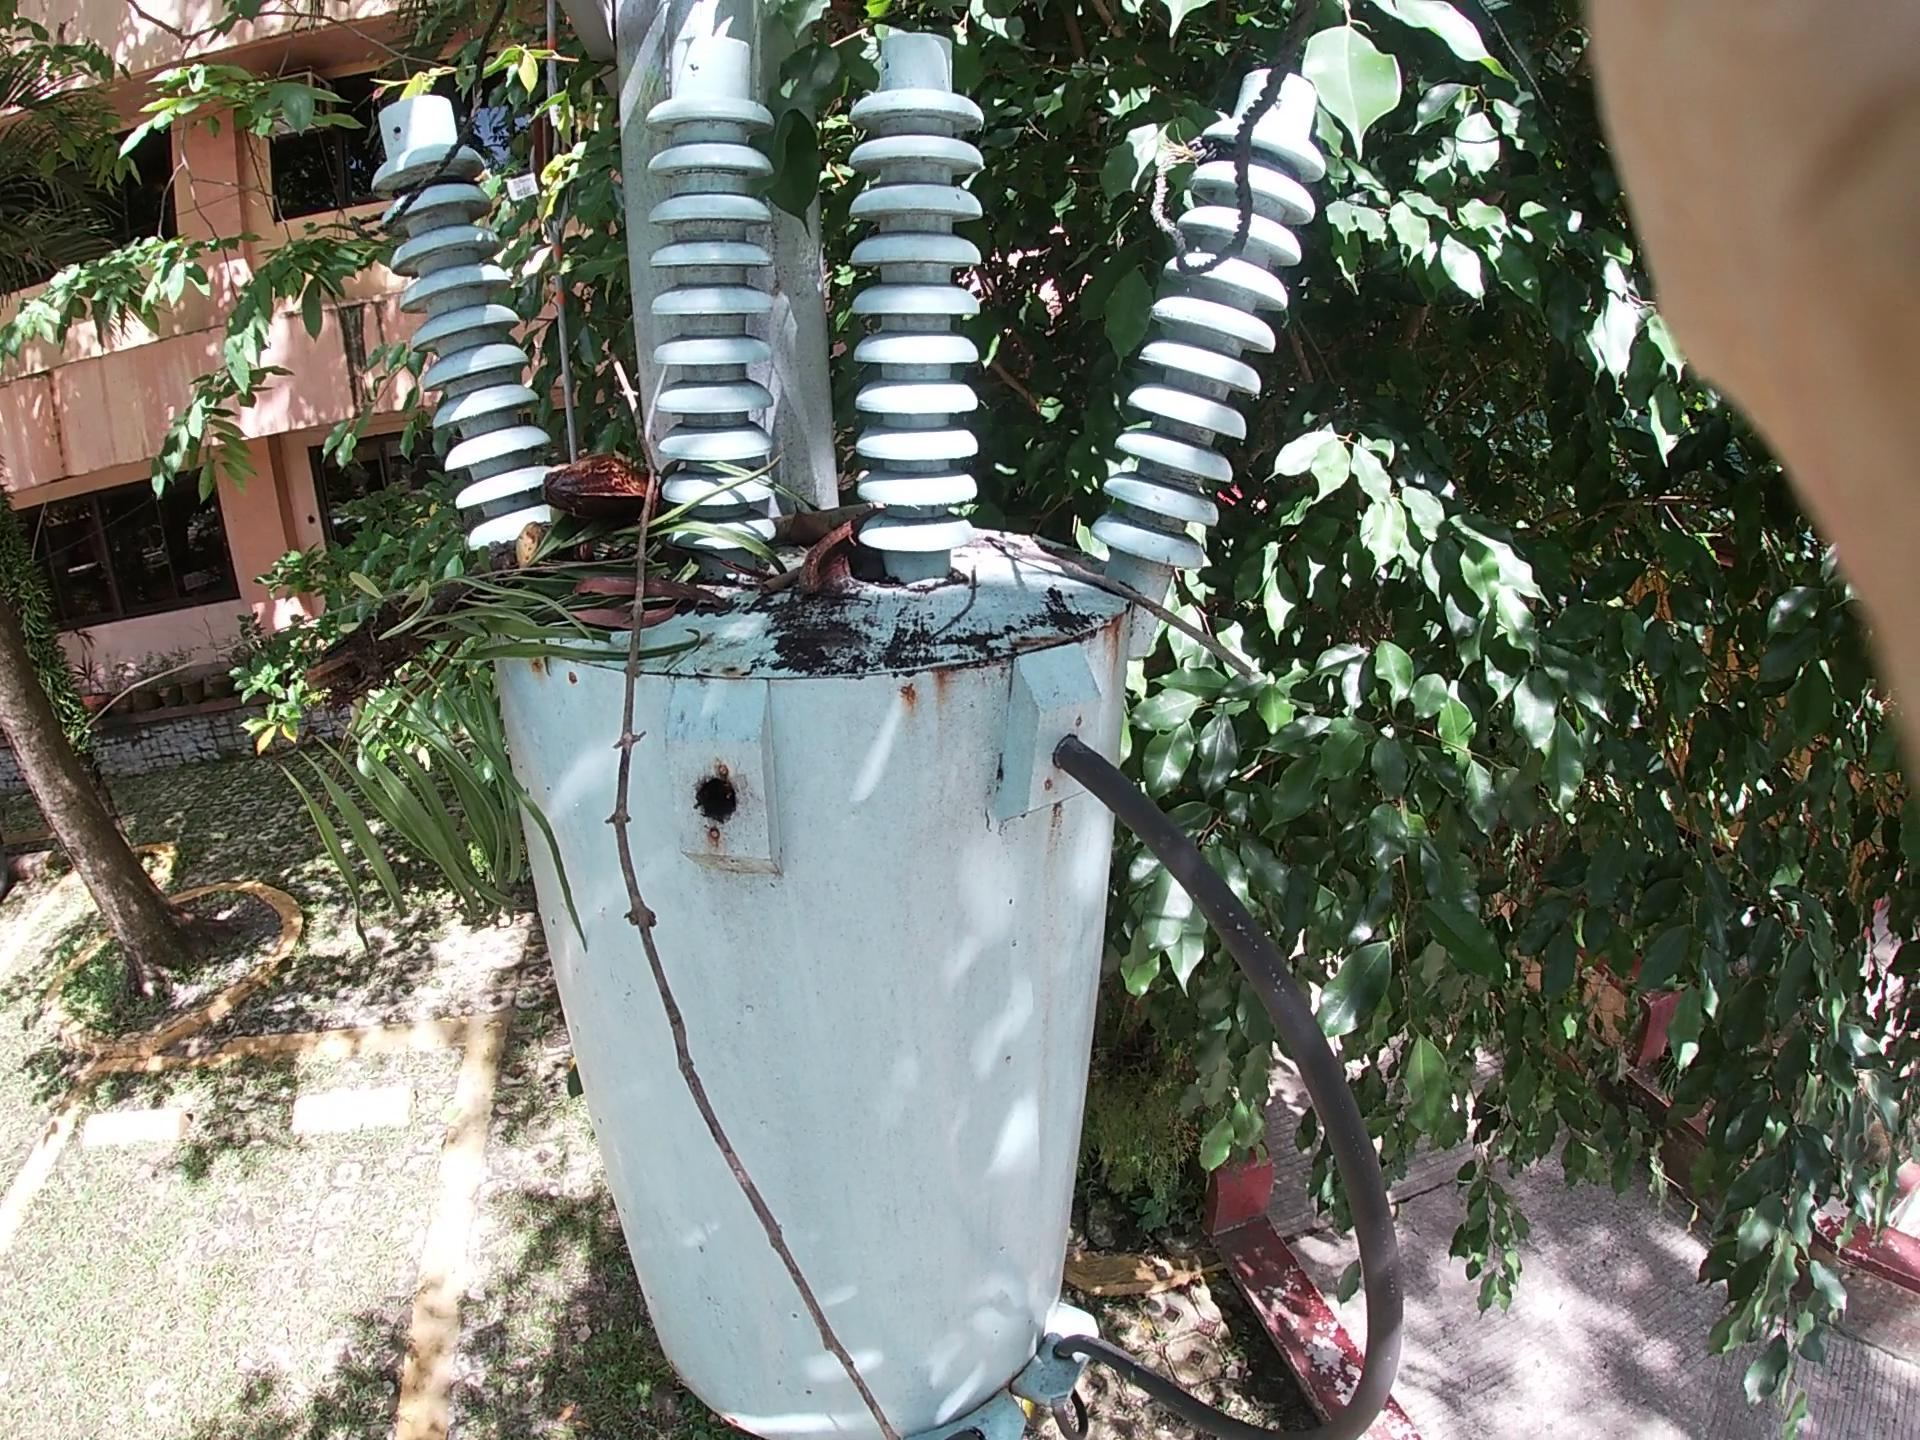branch with leaves: (339, 405, 945, 886)
leaf: (649, 26, 945, 324)
mahogany fruit: (757, 501, 954, 691), (488, 421, 655, 542)
tree branch: (565, 318, 992, 1432), (925, 511, 1368, 755), (717, 511, 900, 684)
